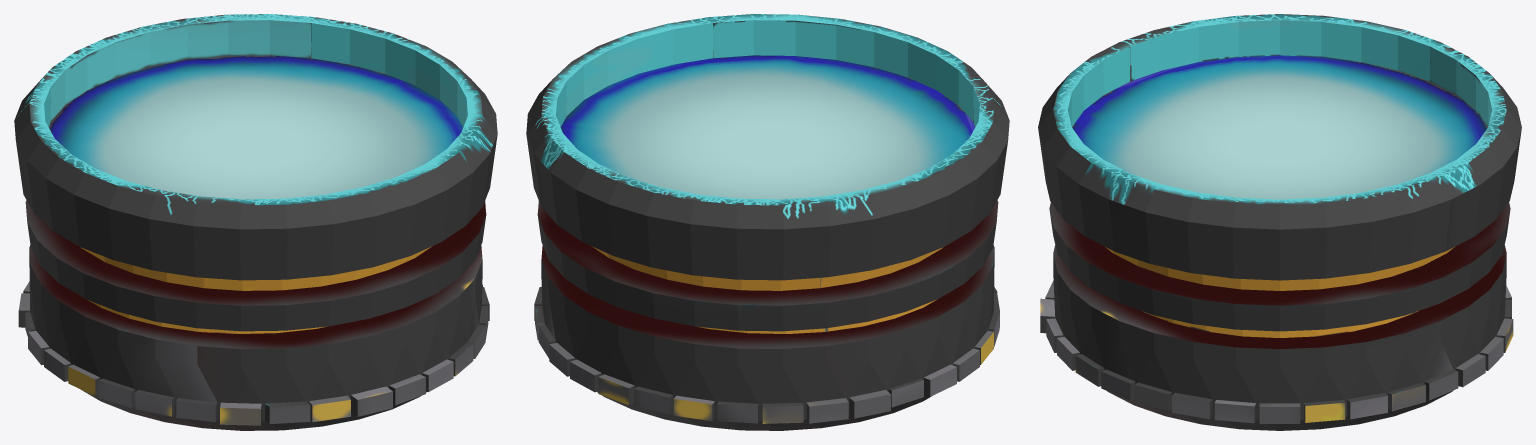
File: BottmPce.glb
3 views of the same model, side by side, from view 1: azimuth 30°, elevation 25°; view 2: azimuth 150°, elevation 25°; view 3: azimuth 270°, elevation 25° (orthographic).
Parts seen in each view (by area): view 1: Cube; view 2: Cube; view 3: Cube.
Part boxes in pixels (box(x1,y1,x2,y2)): Cube: box(14, 14, 497, 430); Cube: box(526, 14, 1009, 430); Cube: box(1038, 14, 1521, 430).
Size of the model in its own units: 2.14 by 1.14 by 2.14.
1 material, 1 textured.
